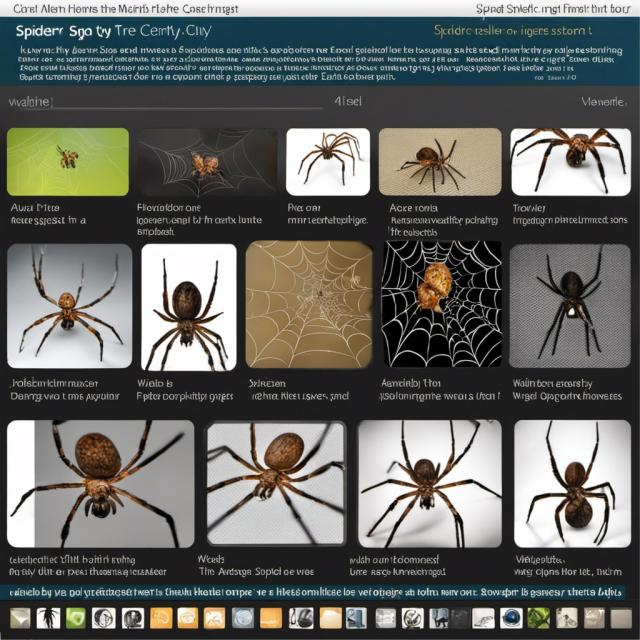spider: (10, 420, 189, 554), (360, 421, 502, 551), (205, 426, 348, 540), (11, 254, 138, 366), (525, 421, 616, 551), (145, 249, 229, 367), (510, 125, 625, 193), (536, 265, 610, 361), (395, 135, 473, 191), (295, 131, 363, 190)
